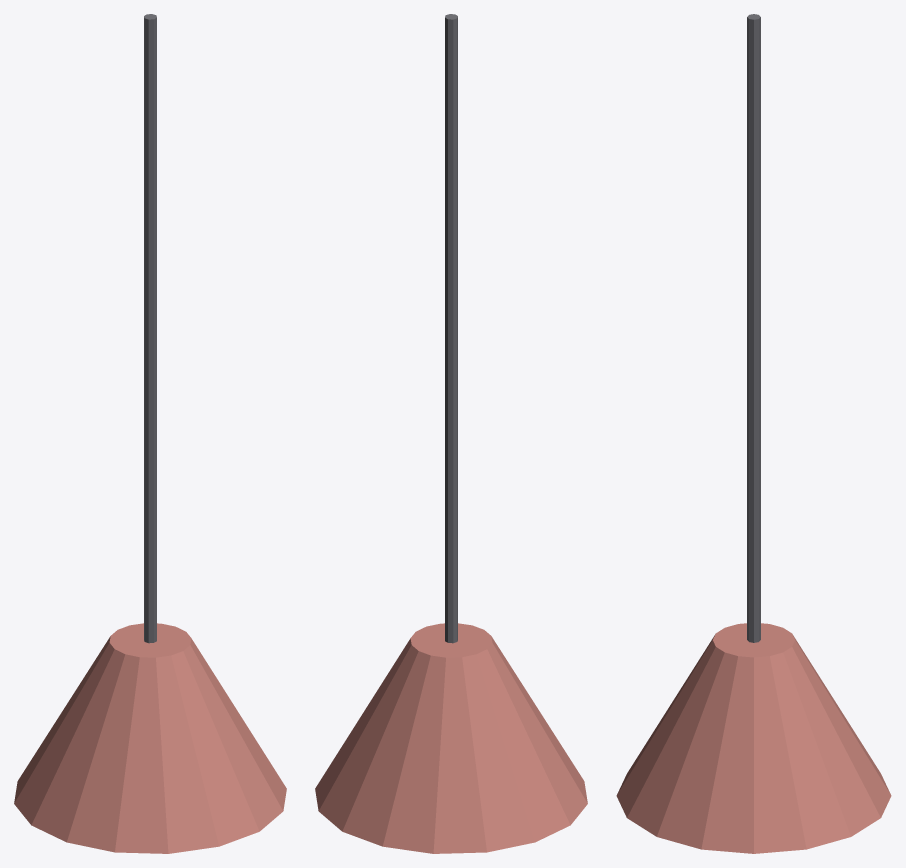
Rendered from kit_ilum_pendente.glb.
3 views of the same model, side by side, from view 1: azimuth 30°, elevation 25°; view 2: azimuth 150°, elevation 25°; view 3: azimuth 270°, elevation 25° (orthographic).
Visible parts, largest first — view 1: KIT_Ilum_Pendente_v01; view 2: KIT_Ilum_Pendente_v01; view 3: KIT_Ilum_Pendente_v01.
Part boxes in pixels (left/top/right/bottom): KIT_Ilum_Pendente_v01: left=14, top=14, right=286, bottom=853; KIT_Ilum_Pendente_v01: left=315, top=14, right=587, bottom=853; KIT_Ilum_Pendente_v01: left=616, top=14, right=891, bottom=853.
Size of the model in its own units: 0.4 by 1.25 by 0.4.
